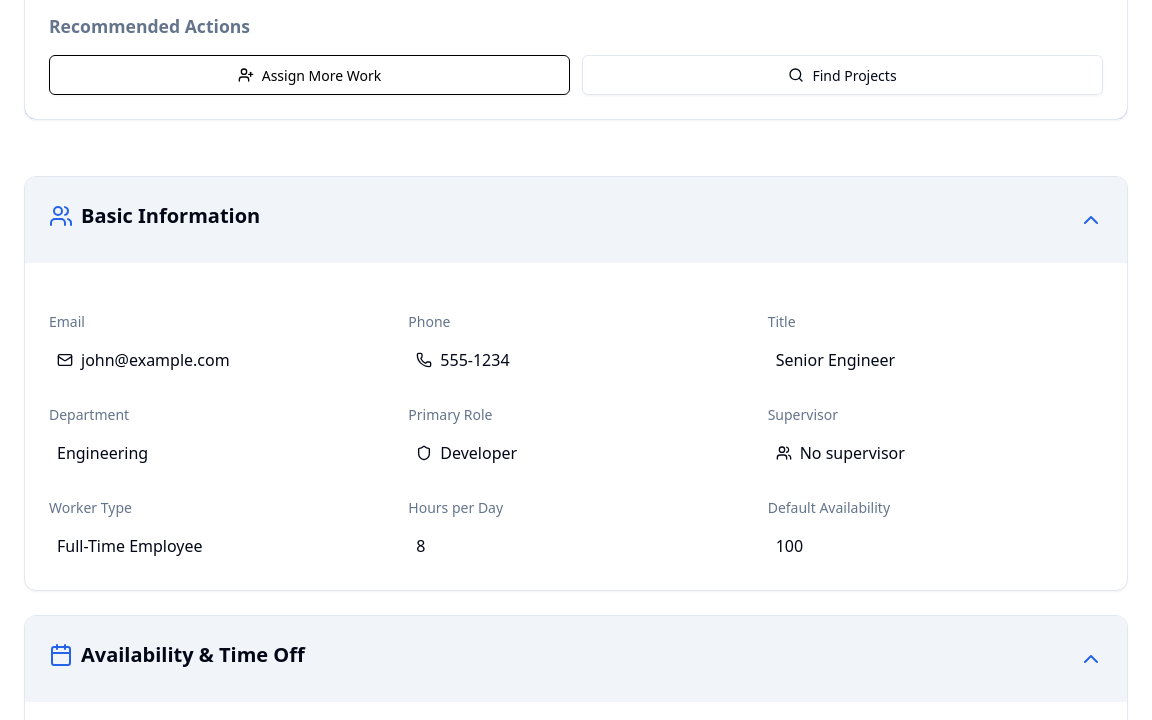
Scenario: PersonDetails › Inline Editing › allows editing email field
(page scrolled)
Note: Click the email value to edit
Click the text "john@example.com" at (155, 360), box x1=81 y1=348 x2=230 y2=372
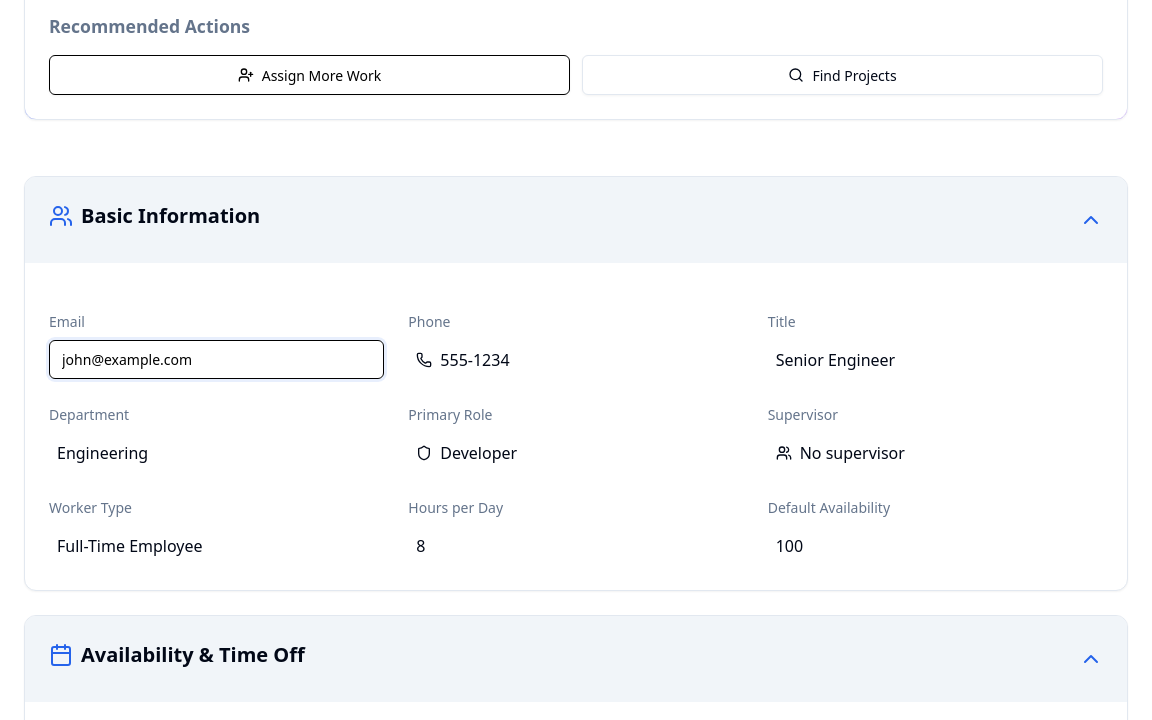
Expected: the field with placeholder "Enter email" holds "john@example.com", x1=49 y1=340 x2=384 y2=379
